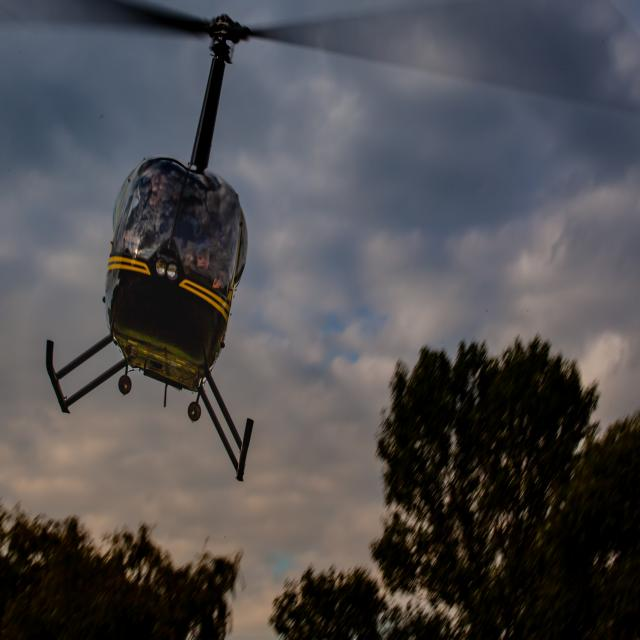helicopter: (1, 1, 507, 487)
